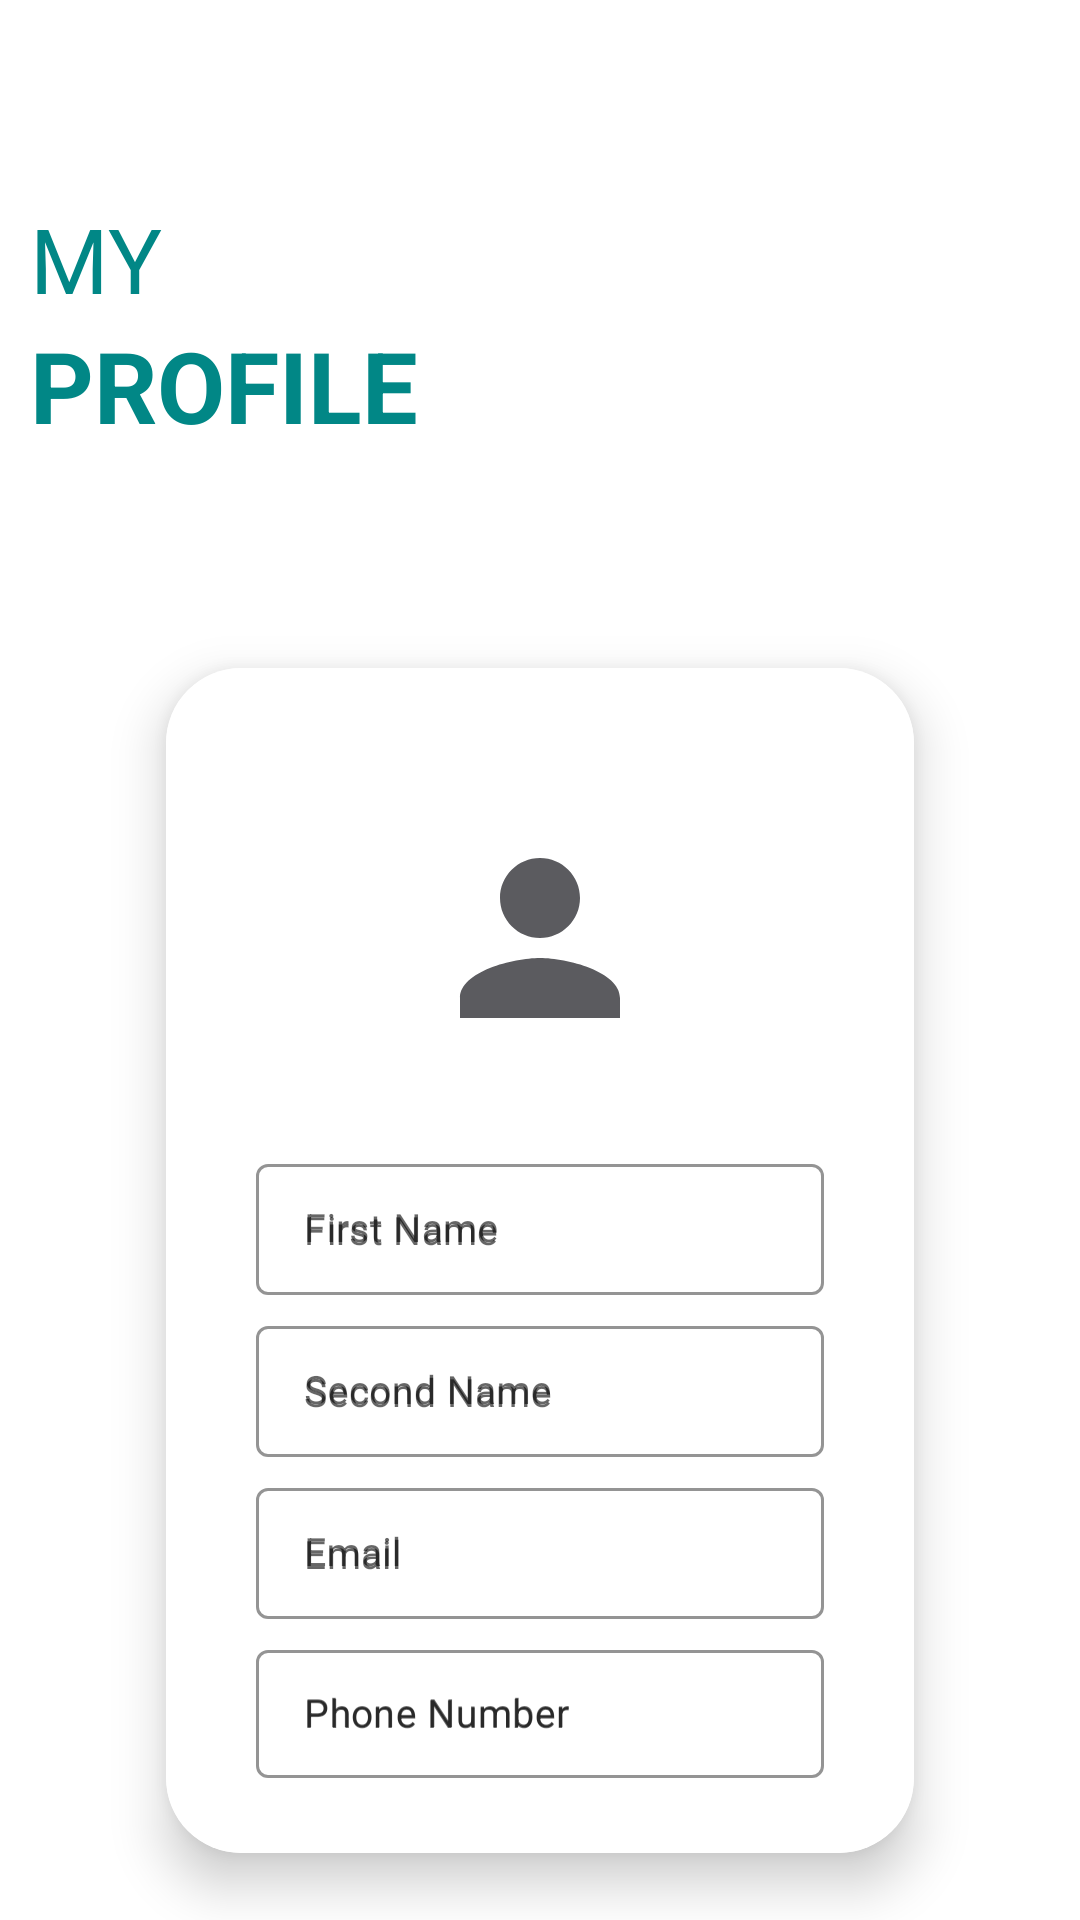

Screen size 1080 × 1920. Icon name, then its center in pixels as (x,y):
user: (540,938)
